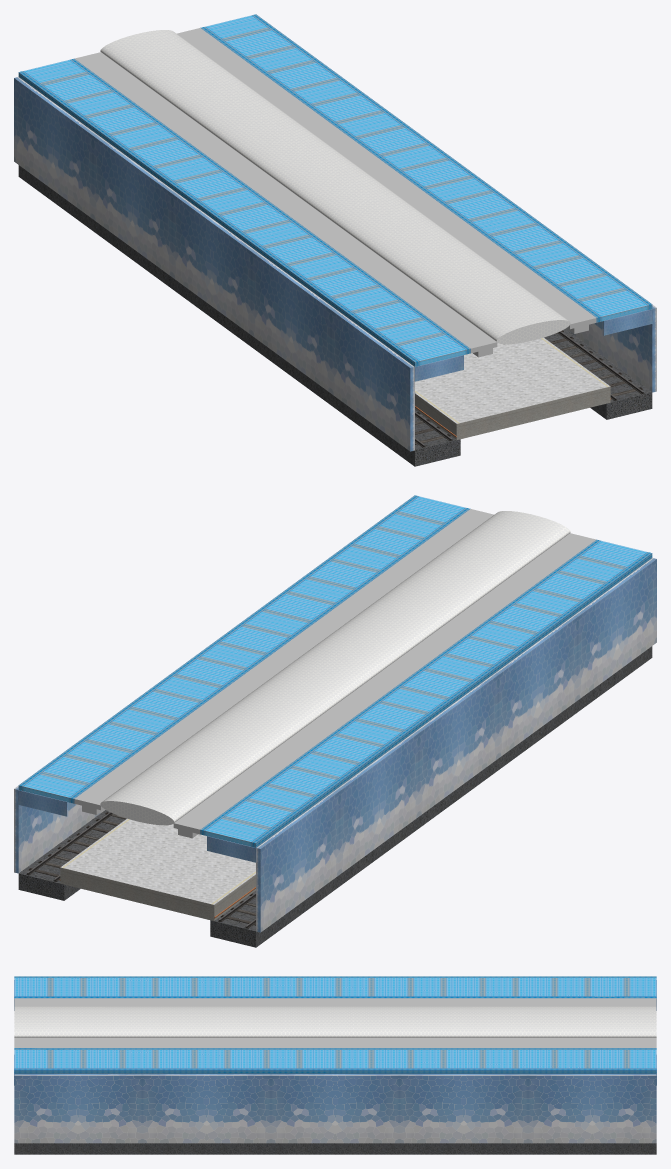
Rendered from Subway01.FBX.
The picture shows the model from 3 angles, top to bottom: view 1: azimuth 30°, elevation 25°; view 2: azimuth 150°, elevation 25°; view 3: azimuth 270°, elevation 25°; orthographic projection. The views are drawn at different scales.
Parts seen in each view (by area): view 1: Subway01CeilingUp, Subway01Side01, Subway01Ceiling, Subway01CeilingUp01, Subway01Floor01, Subway01Railfloor, Subway01Side01Part, Subway01Railway; view 2: Subway01CeilingUp, Subway01Side01, Subway01Ceiling, Subway01CeilingUp01, Subway01Floor01, Subway01Railfloor, Subway01Side01Part, Subway01Railway; view 3: Subway01Side01, Subway01CeilingUp, Subway01Ceiling, Subway01CeilingUp01, Subway01Railfloor.
Boxes of the visible parts, x1=… form: Subway01CeilingUp: x1=18, y1=14, x2=652, y2=366; Subway01Side01: x1=14, y1=77, x2=656, y2=451; Subway01Ceiling: x1=100, y1=30, x2=570, y2=344; Subway01CeilingUp01: x1=74, y1=28, x2=596, y2=353; Subway01Floor01: x1=415, y1=337, x2=610, y2=439; Subway01Railfloor: x1=18, y1=165, x2=652, y2=466; Subway01Side01Part: x1=414, y1=309, x2=652, y2=381; Subway01Railway: x1=415, y1=330, x2=644, y2=447; Subway01CeilingUp: x1=18, y1=495, x2=652, y2=847; Subway01Side01: x1=14, y1=558, x2=656, y2=932; Subway01Ceiling: x1=100, y1=511, x2=570, y2=825; Subway01CeilingUp01: x1=74, y1=509, x2=596, y2=834; Subway01Floor01: x1=60, y1=818, x2=255, y2=920; Subway01Railfloor: x1=18, y1=646, x2=652, y2=947; Subway01Side01Part: x1=18, y1=790, x2=256, y2=862; Subway01Railway: x1=26, y1=812, x2=255, y2=928; Subway01Side01: x1=14, y1=1074, x2=656, y2=1143; Subway01CeilingUp: x1=14, y1=976, x2=656, y2=1073; Subway01Ceiling: x1=14, y1=1006, x2=656, y2=1037; Subway01CeilingUp01: x1=14, y1=998, x2=656, y2=1047; Subway01Railfloor: x1=14, y1=1143, x2=656, y2=1154.
Bounding box in the file's own units: 26950 × 11874 × 75107.
